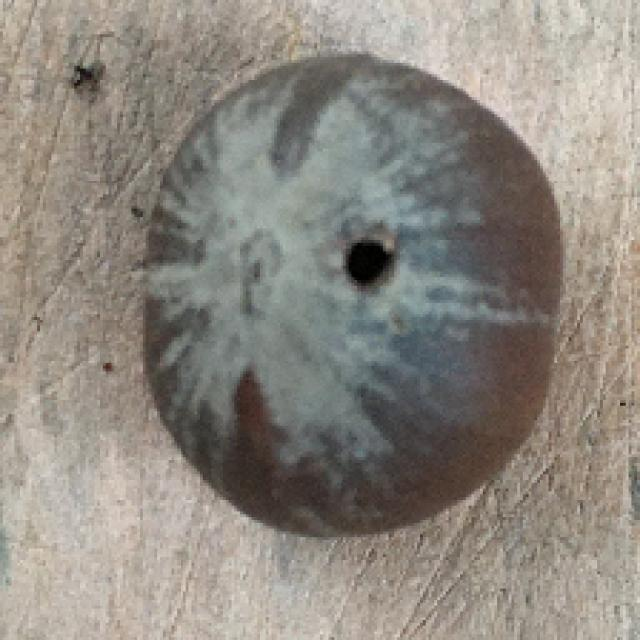damagedHazelnut: (133, 47, 563, 540)
